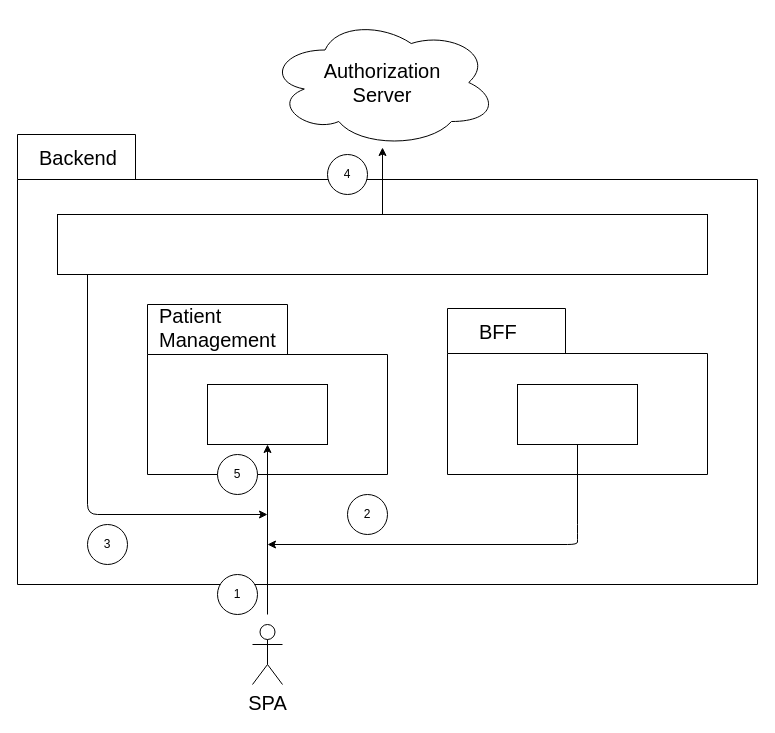
Image size: 775x733. Some labels were removed from this diagram. The centre of each missing label's shape, as x and y in pixels:
Patient Controller: (x=267, y=414)
Spring Security: (x=382, y=244)
Token Filter: (x=577, y=414)
